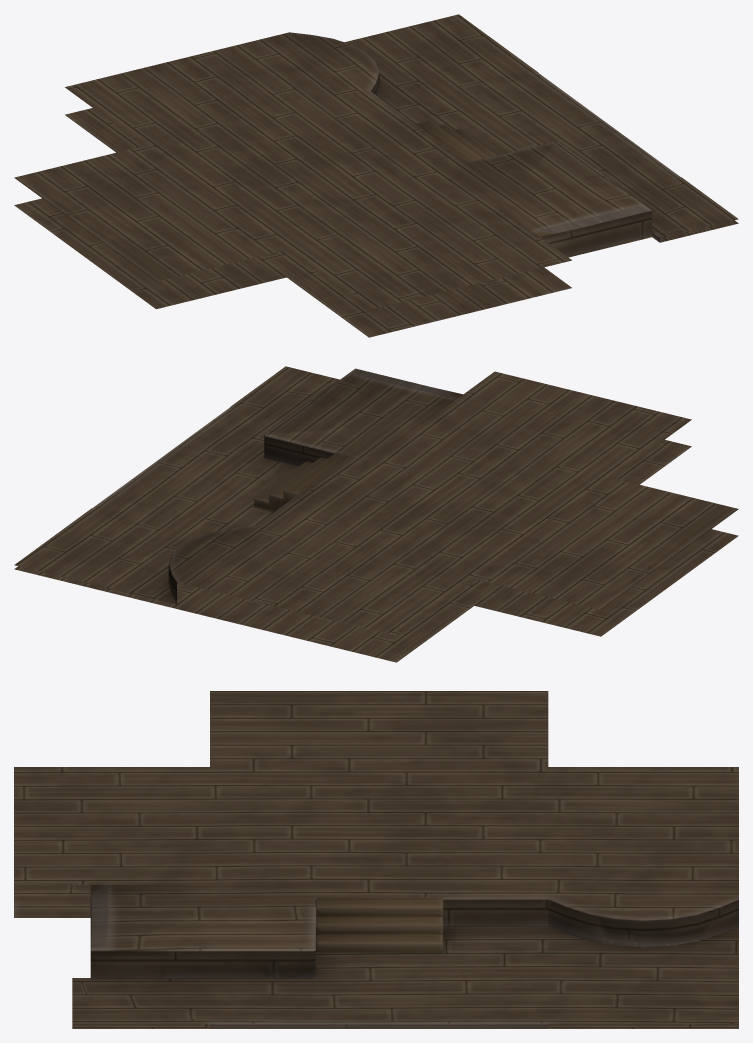
The model's file is m_Floor.fbx.
3 renders of one model, top to bottom at view 1: azimuth 30°, elevation 25°; view 2: azimuth 150°, elevation 25°; view 3: azimuth 270°, elevation 25°, orthographic. The views are drawn at different scales.
Parts seen in each view (by area): view 1: Floor._v2, WoodStairs; view 2: Floor._v2, WoodStairs; view 3: Floor._v2, WoodStairs.
Boxes of the visible parts, bbox=[...] form: Floor._v2: bbox=[14, 14, 738, 337]; WoodStairs: bbox=[415, 120, 496, 162]; Floor._v2: bbox=[14, 366, 738, 662]; WoodStairs: bbox=[254, 453, 349, 511]; Floor._v2: bbox=[14, 691, 738, 1028]; WoodStairs: bbox=[316, 897, 443, 952].
Bounding box in the file's own units: 629 × 31.58 × 632.
Materials: 1 (1 with a texture image).
